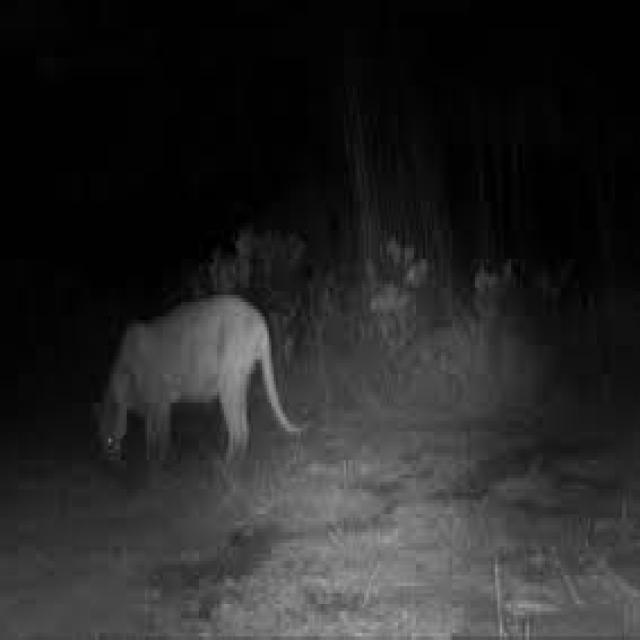Jaguar: (84, 292, 294, 468)
